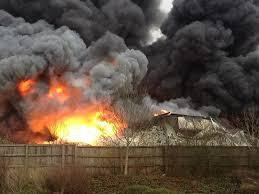fire: (40, 107, 127, 145), (152, 107, 172, 118)
